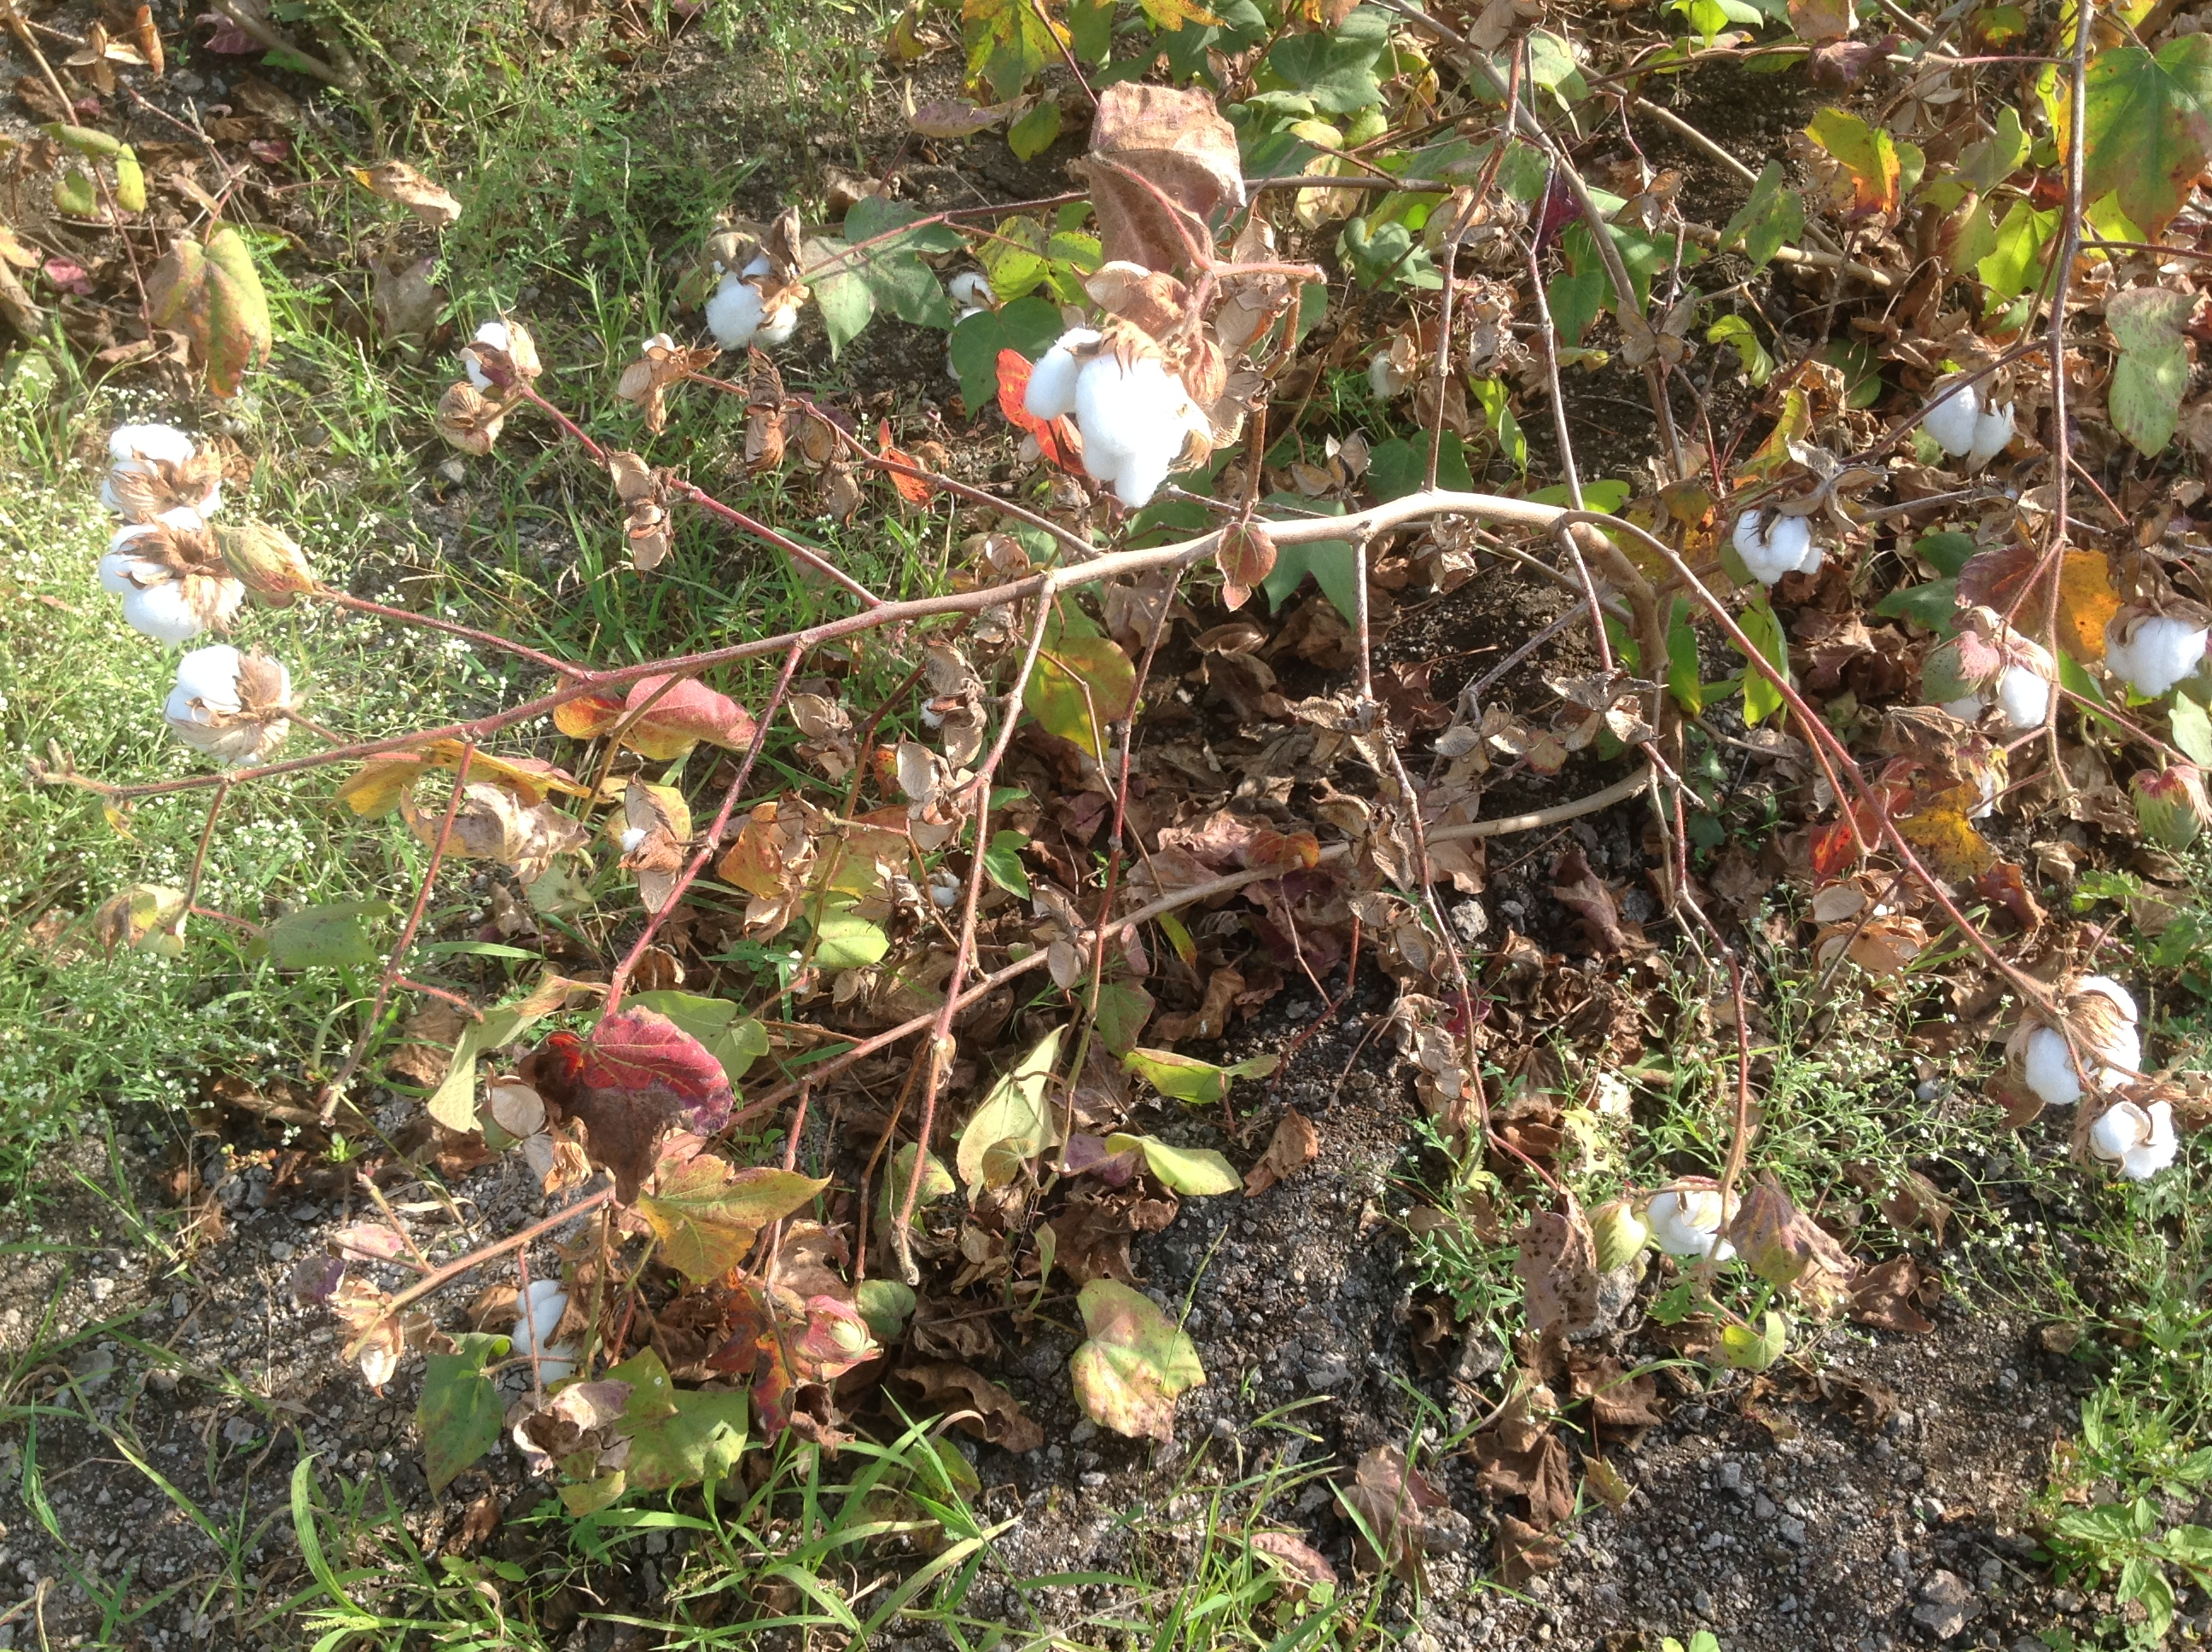cotton: (1013, 290, 1213, 508), (94, 500, 253, 639), (1721, 441, 1851, 602), (2007, 970, 2148, 1112), (425, 323, 545, 474), (151, 642, 293, 762), (1936, 614, 2059, 739), (1898, 361, 2028, 477), (689, 239, 808, 359), (493, 1262, 597, 1393), (102, 422, 220, 521), (1653, 1182, 1749, 1277), (2091, 1088, 2184, 1177)
